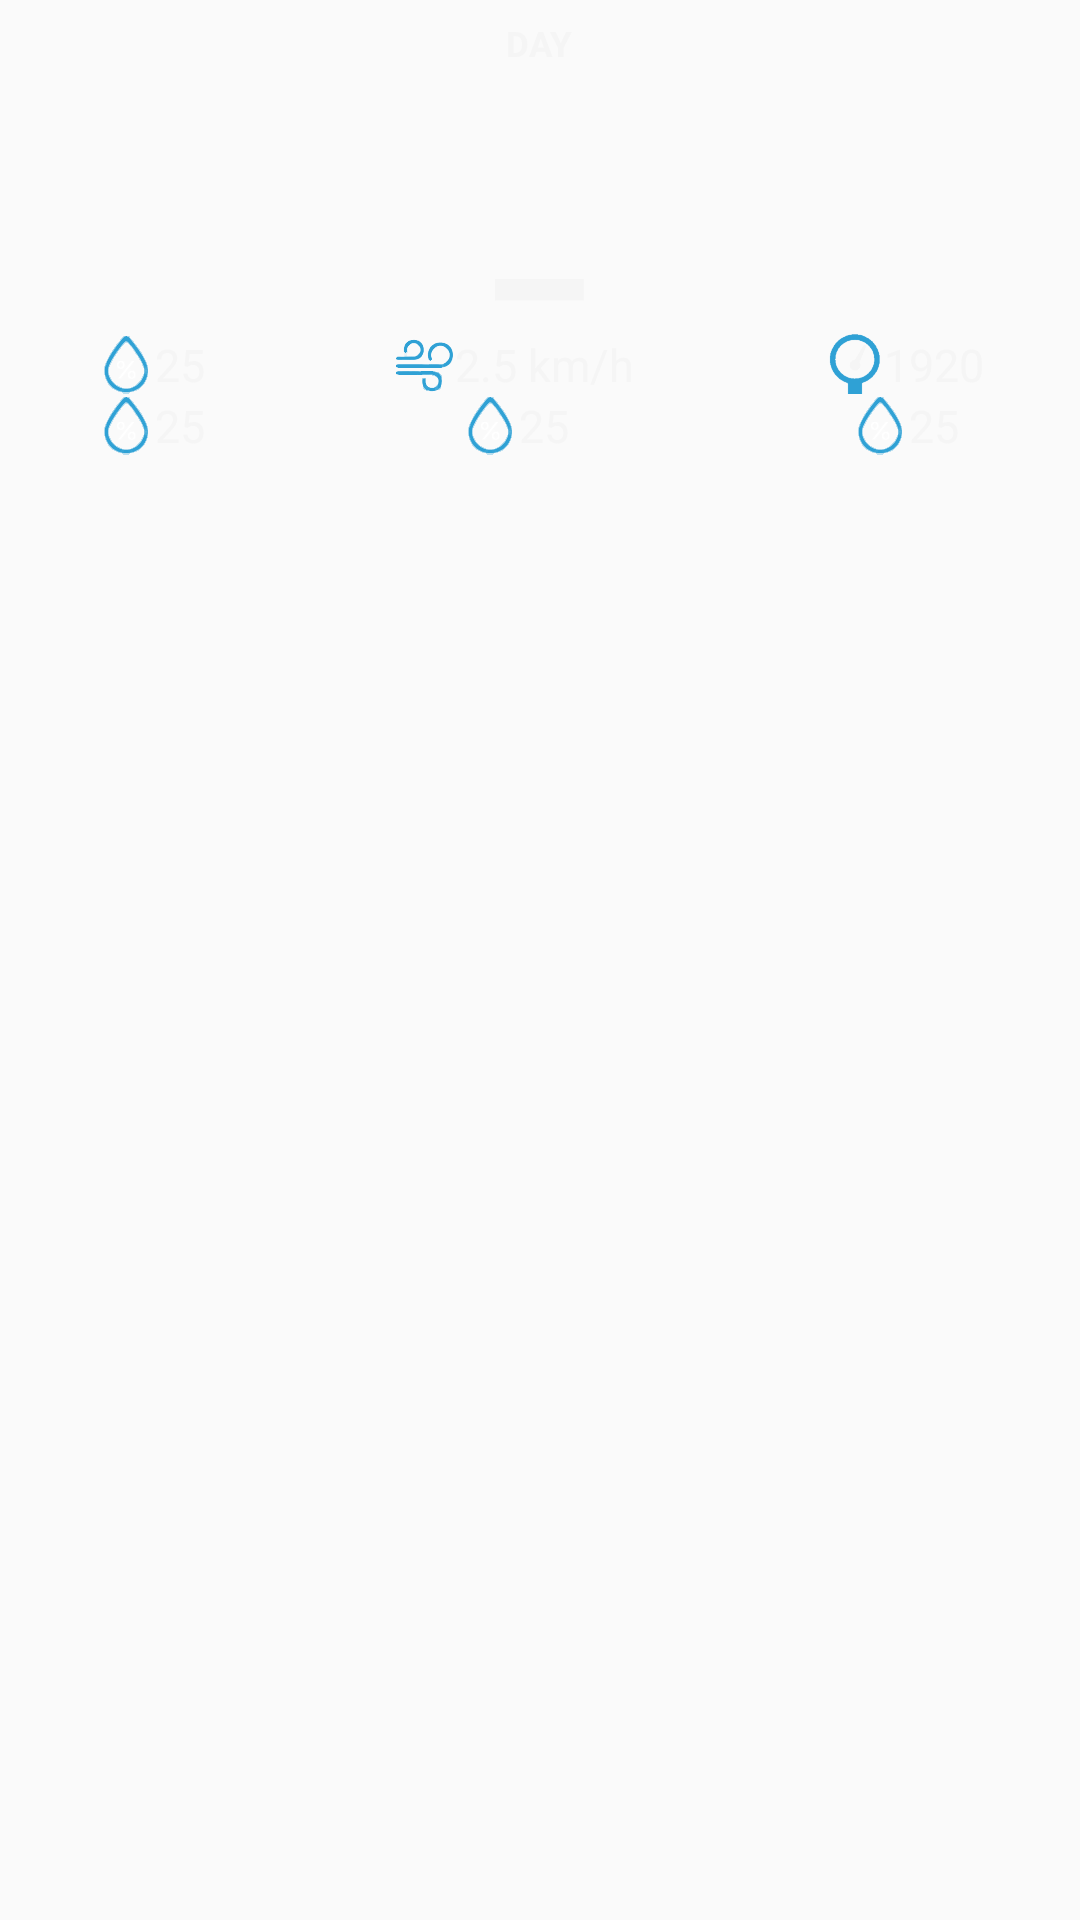

Locate icon controls on the screen. Image size 1080px×1920px, boxes as (left=x1, top=y1, right=x2, bottom=y2).
humidity: (left=104, top=336, right=148, bottom=394), (left=104, top=397, right=148, bottom=455), (left=468, top=397, right=512, bottom=455), (left=858, top=397, right=902, bottom=455)
pressure: (left=830, top=334, right=880, bottom=394)
wind speed: (left=396, top=340, right=453, bottom=391)
